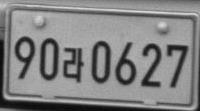0: (90, 39, 111, 84), (39, 37, 59, 81)
2: (140, 42, 162, 87)
6: (114, 41, 137, 85)
7: (165, 43, 189, 88)
9: (14, 35, 36, 80)
라: (63, 46, 84, 83)
